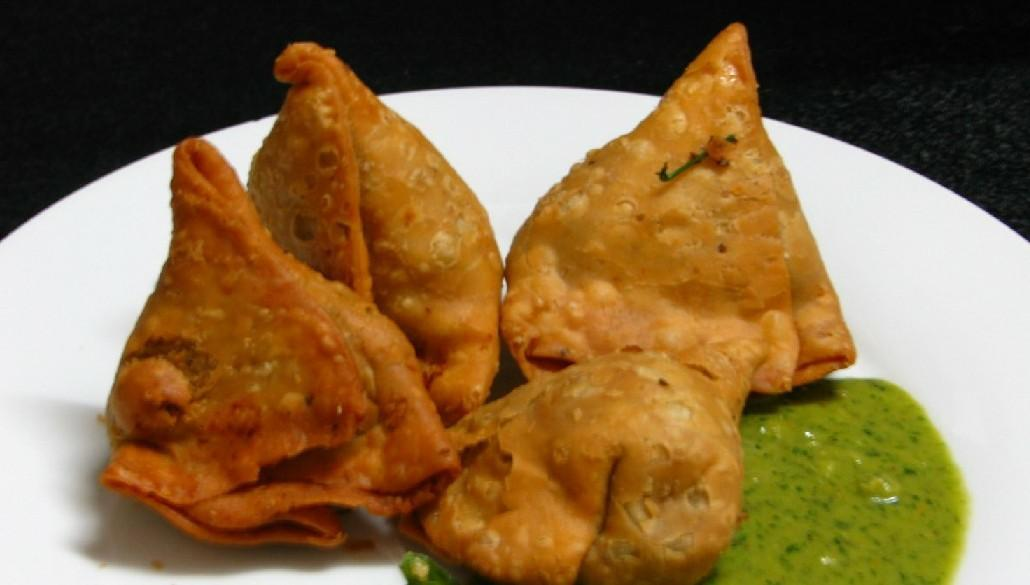Samosa: (102, 135, 458, 551), (505, 23, 859, 384), (248, 39, 501, 415), (396, 339, 773, 584)
